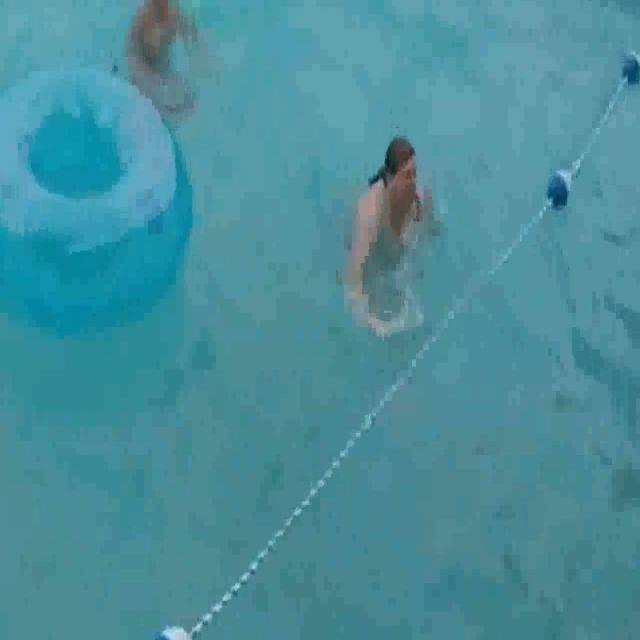drowning: (321, 107, 453, 345)
swimming: (121, 0, 208, 106)
